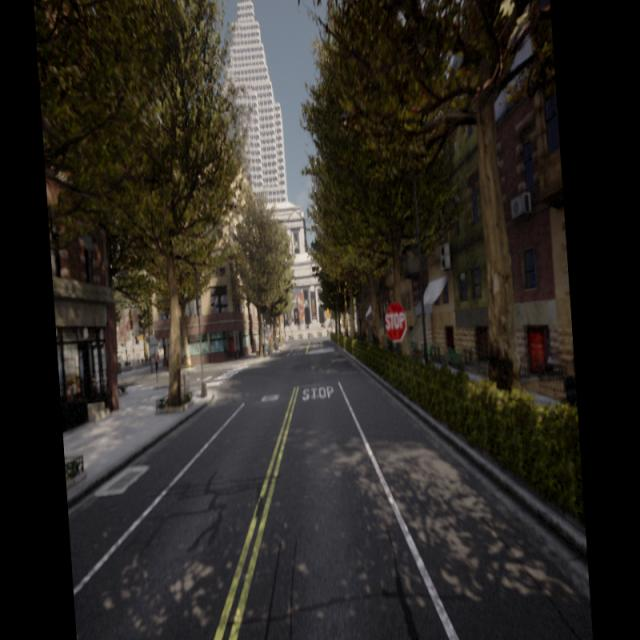stop sign: (382, 298, 409, 344)
